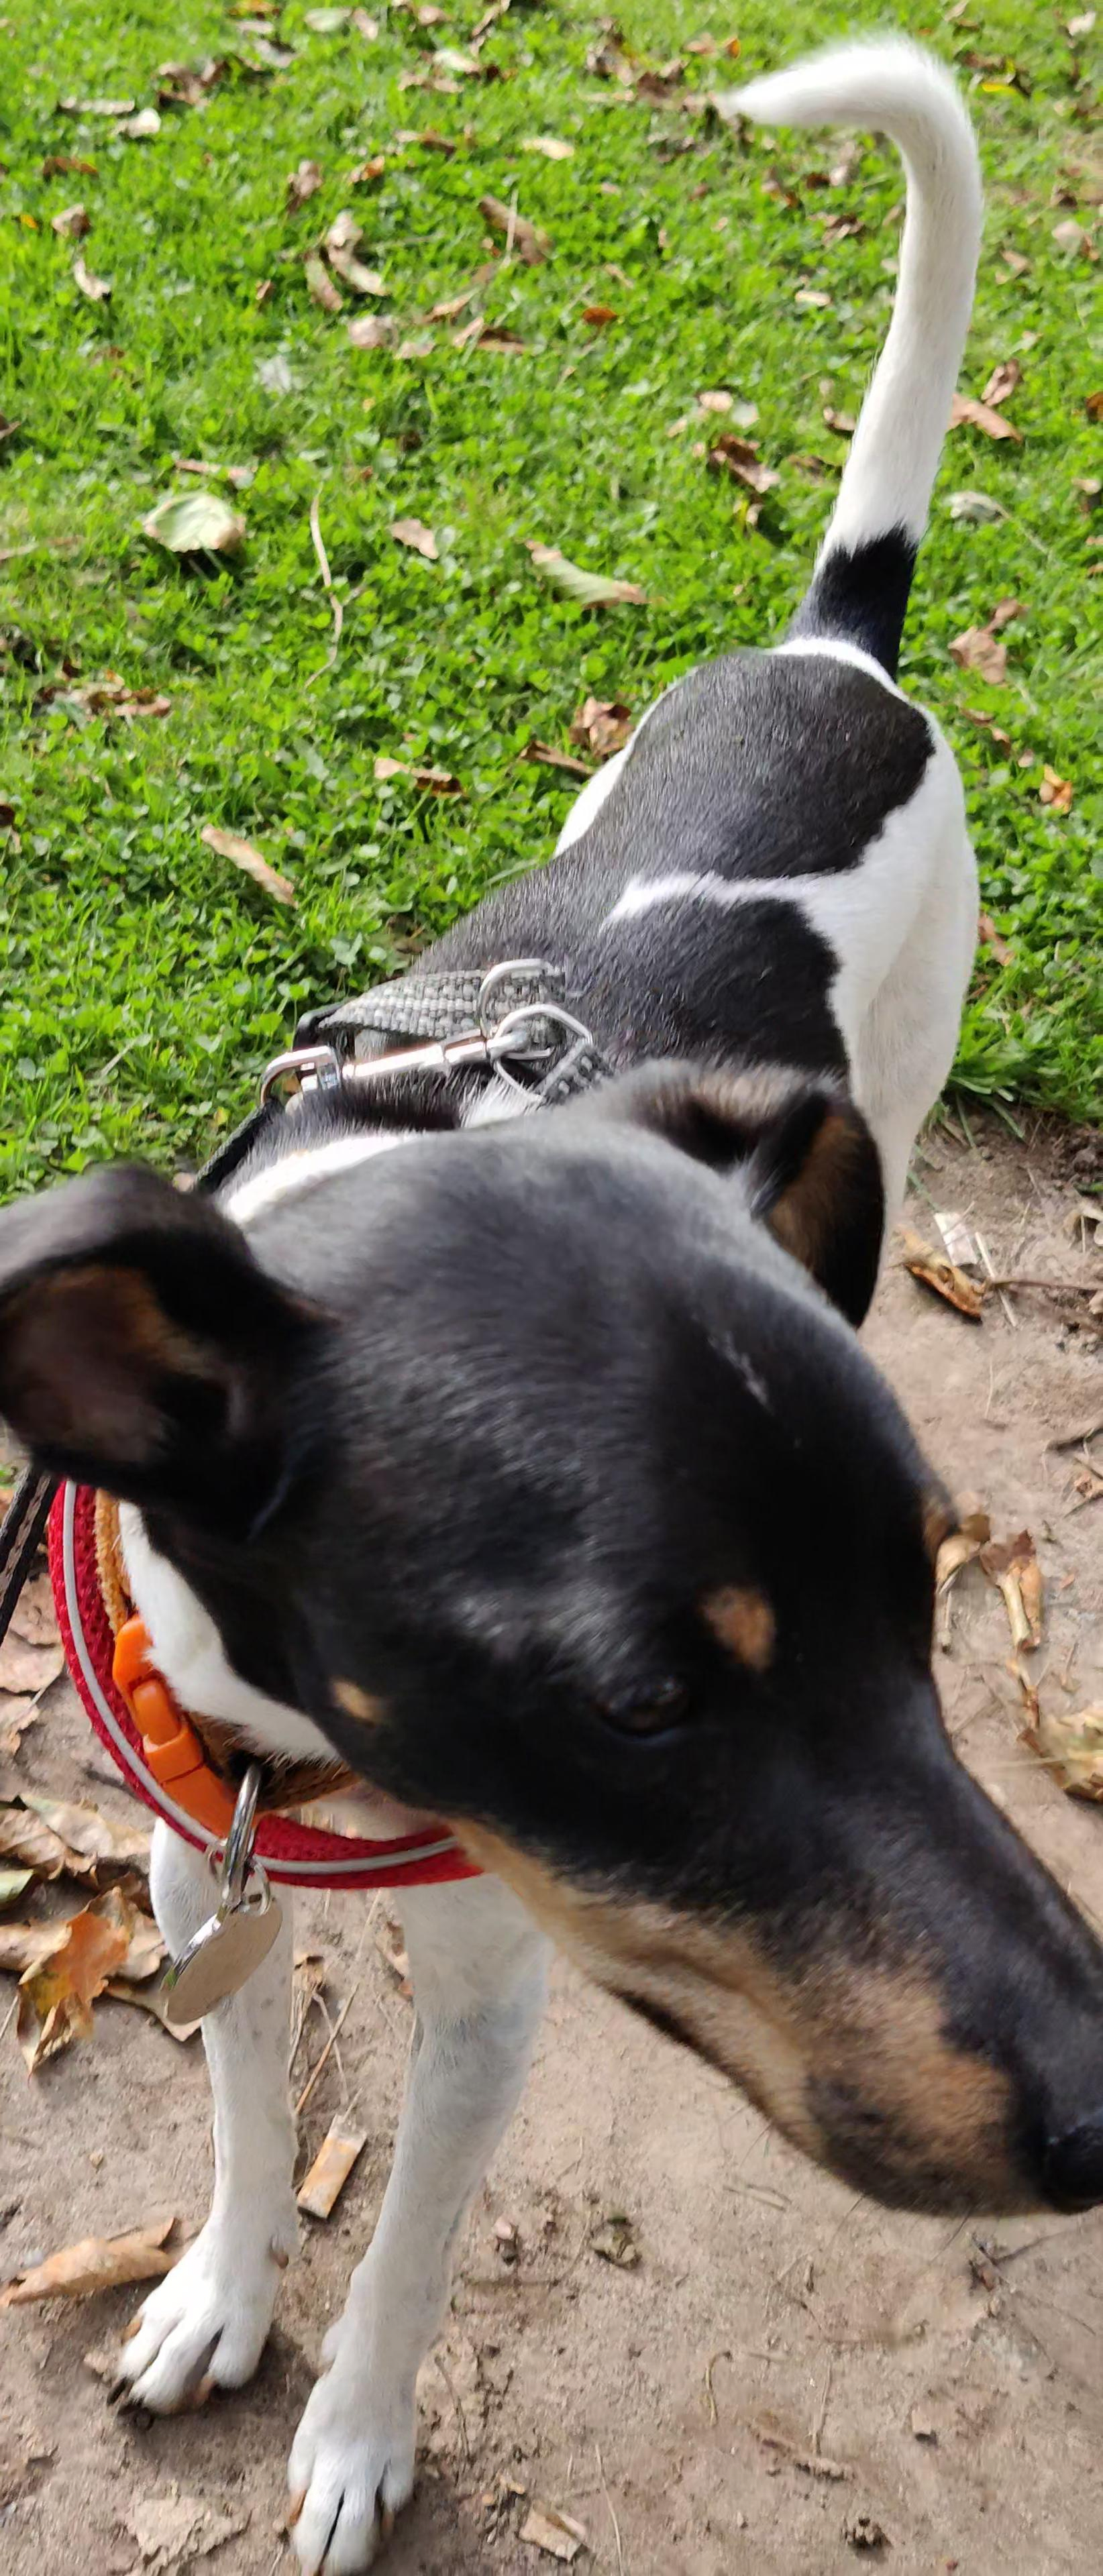Dog: (0, 28, 1103, 2576)
